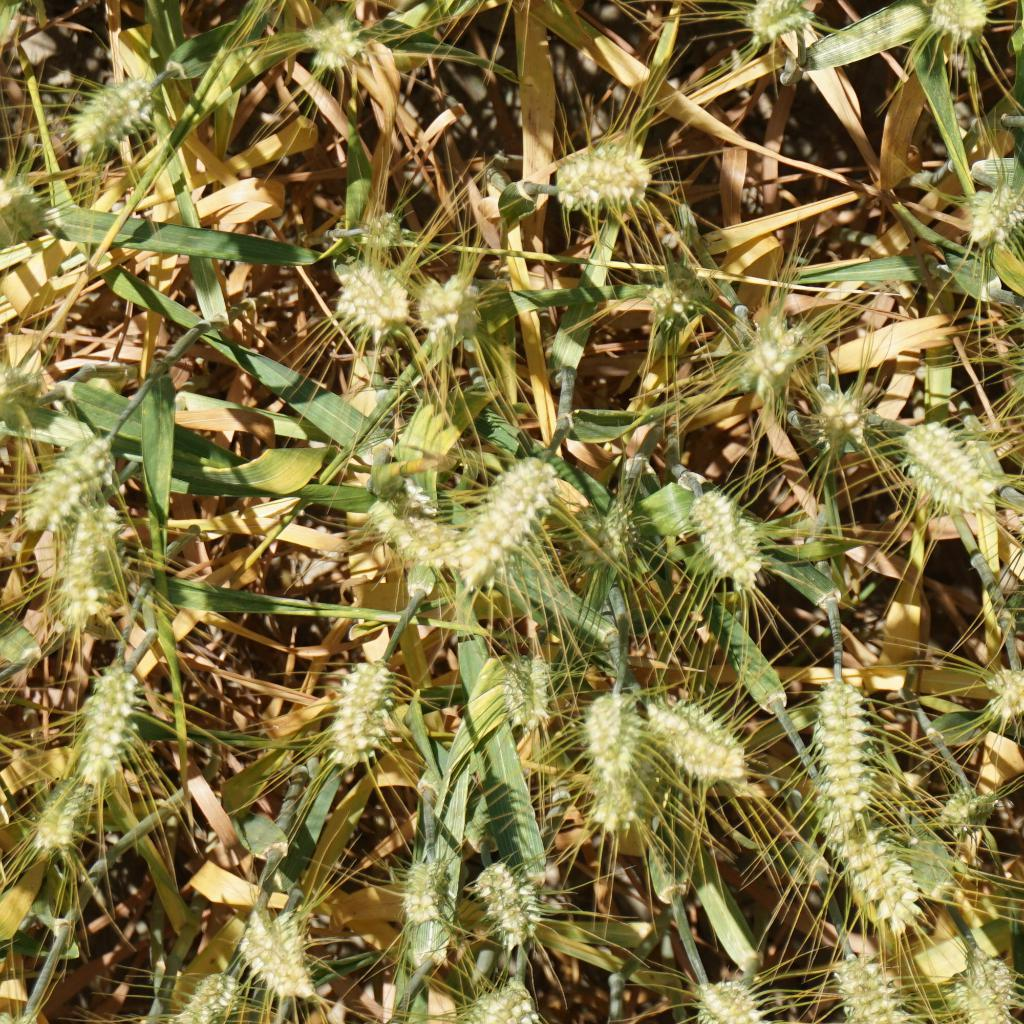0-0: (809, 799, 915, 926), (798, 671, 881, 822), (892, 414, 996, 508), (642, 690, 747, 777), (466, 455, 544, 569), (324, 655, 399, 768), (43, 504, 126, 606), (690, 493, 768, 593), (465, 861, 545, 957), (332, 258, 419, 345), (554, 145, 662, 213), (24, 427, 112, 510), (77, 667, 140, 771), (242, 913, 315, 1000), (68, 67, 155, 139), (371, 495, 457, 566), (947, 952, 1016, 1024), (419, 274, 486, 348), (580, 686, 638, 770), (30, 771, 89, 853), (835, 954, 904, 1024), (503, 650, 559, 732), (307, 15, 376, 73), (401, 855, 455, 926), (178, 971, 241, 1024), (583, 770, 636, 832), (967, 193, 1024, 249), (942, 776, 995, 836), (747, 336, 799, 394), (812, 397, 869, 449), (647, 282, 705, 328), (747, 0, 810, 42), (690, 980, 748, 1024), (984, 663, 1024, 726), (924, 0, 992, 37), (272, 910, 320, 962), (476, 975, 526, 1024), (590, 501, 628, 565), (356, 209, 412, 250), (0, 359, 39, 401), (0, 182, 26, 227)
